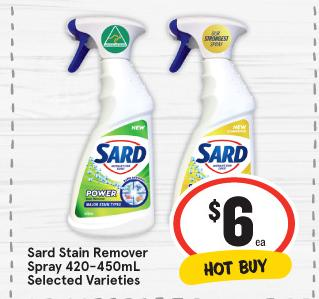description_block: (22, 238, 150, 293)
price_main: (165, 173, 298, 254)
product_image_block: (60, 8, 166, 243)
promo_text_block: (178, 245, 286, 283)
